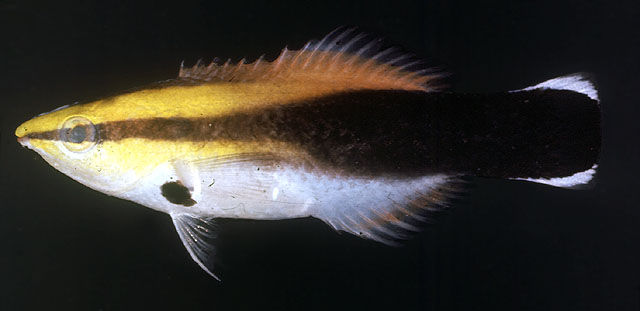fish: (15, 24, 604, 283)
